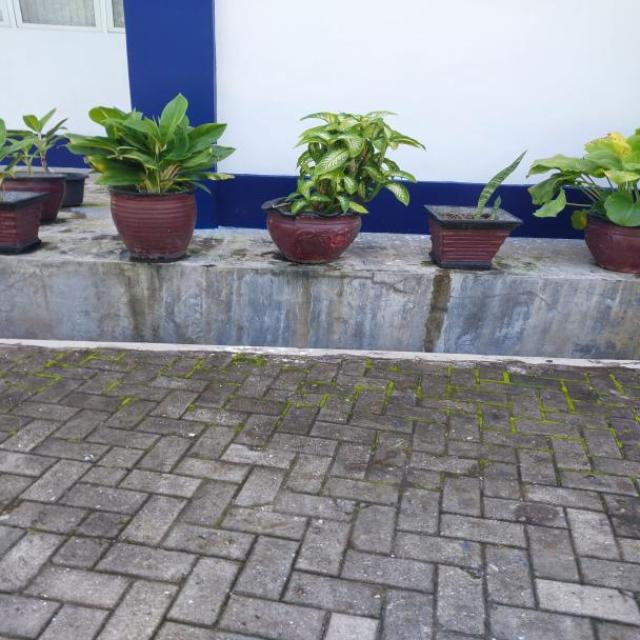plant ahead at: (65, 97, 226, 269), (266, 97, 404, 262), (534, 125, 640, 274), (430, 157, 526, 271)
